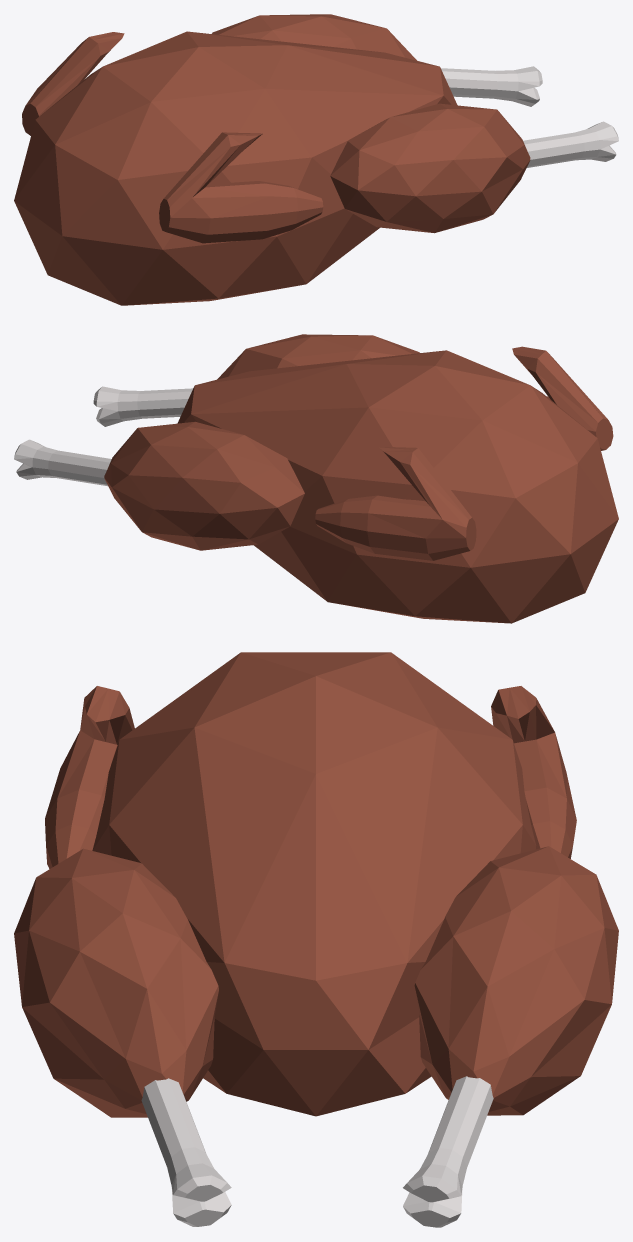
File: WholeBird.fbx
3 renders of one model, top to bottom at view 1: azimuth 30°, elevation 25°; view 2: azimuth 150°, elevation 25°; view 3: azimuth 270°, elevation 25°, orthographic. The views are drawn at different scales.
Parts seen in each view (by area): view 1: Icosphere, Icosphere.002, Cylinder.003, Icosphere.001, Cylinder, Cylinder.002, Cylinder.001; view 2: Icosphere, Icosphere.001, Cylinder, Icosphere.002, Cylinder.003, Cylinder.001, Cylinder.002; view 3: Icosphere, Icosphere.001, Icosphere.002, Cylinder.003, Cylinder, Cylinder.002, Cylinder.001.
Part boxes in pixels (x1=…): Icosphere: x1=14, y1=31, x2=457, y2=305; Icosphere.002: x1=330, y1=103, x2=530, y2=233; Cylinder.003: x1=159, y1=132, x2=323, y2=243; Icosphere.001: x1=212, y1=14, x2=416, y2=60; Cylinder: x1=22, y1=32, x2=124, y2=135; Cylinder.002: x1=441, y1=66, x2=542, y2=106; Cylinder.001: x1=523, y1=121, x2=618, y2=167; Icosphere: x1=177, y1=350, x2=618, y2=623; Icosphere.001: x1=104, y1=421, x2=304, y2=550; Cylinder: x1=315, y1=447, x2=476, y2=560; Icosphere.002: x1=217, y1=334, x2=419, y2=379; Cylinder.003: x1=512, y1=346, x2=613, y2=450; Cylinder.001: x1=93, y1=386, x2=192, y2=426; Cylinder.002: x1=14, y1=439, x2=111, y2=486; Icosphere: x1=92, y1=652, x2=536, y2=1116; Icosphere.001: x1=414, y1=846, x2=618, y2=1115; Icosphere.002: x1=14, y1=848, x2=218, y2=1117; Cylinder.003: x1=45, y1=686, x2=134, y2=868; Cylinder: x1=491, y1=686, x2=576, y2=858; Cylinder.002: x1=403, y1=1076, x2=493, y2=1227; Cylinder.001: x1=141, y1=1078, x2=231, y2=1226.
Bounding box in the file's own units: 180 × 71.45 × 113.
